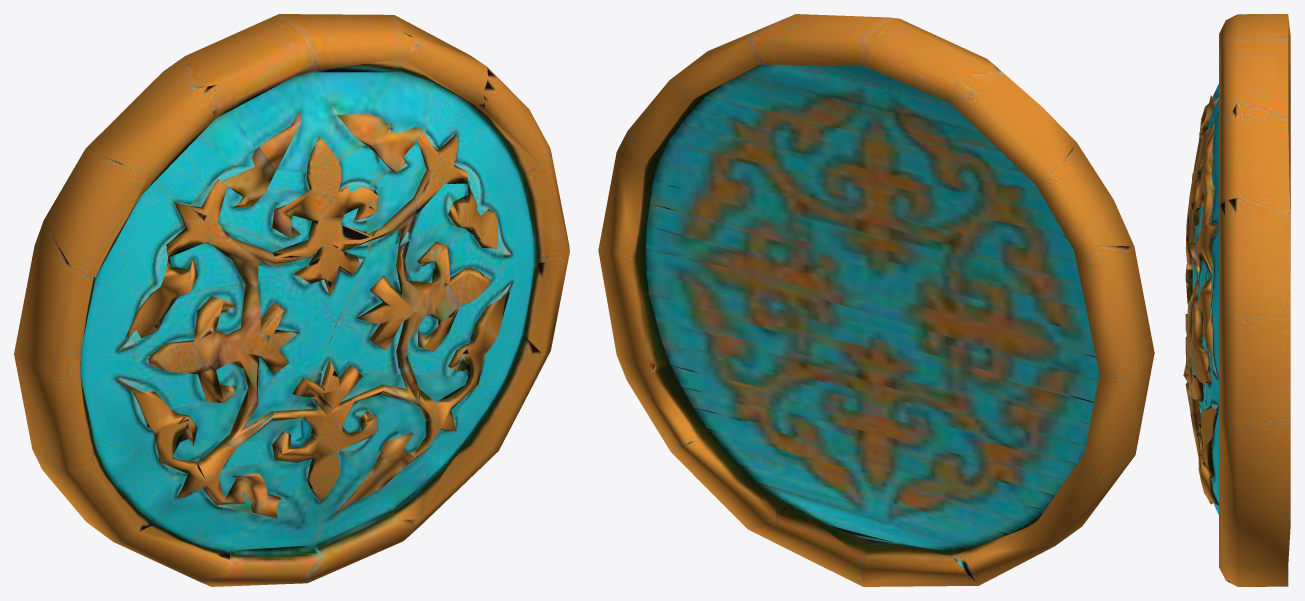
Rendered from shield.glb.
3 renders of one model, left to right at view 1: azimuth 30°, elevation 25°; view 2: azimuth 150°, elevation 25°; view 3: azimuth 270°, elevation 25°, orthographic. The views are drawn at different scales.
Visible parts, largest first — view 1: geometry_0; view 2: geometry_0; view 3: geometry_0.
Boxes of the visible parts, <box> form: geometry_0: <box>14,14,569,586</box>; geometry_0: <box>598,14,1154,586</box>; geometry_0: <box>1183,14,1290,586</box>.
Bounding box in the file's own units: 0.9561 × 0.9522 × 0.1773.
Materials: 1 (1 with a texture image).
